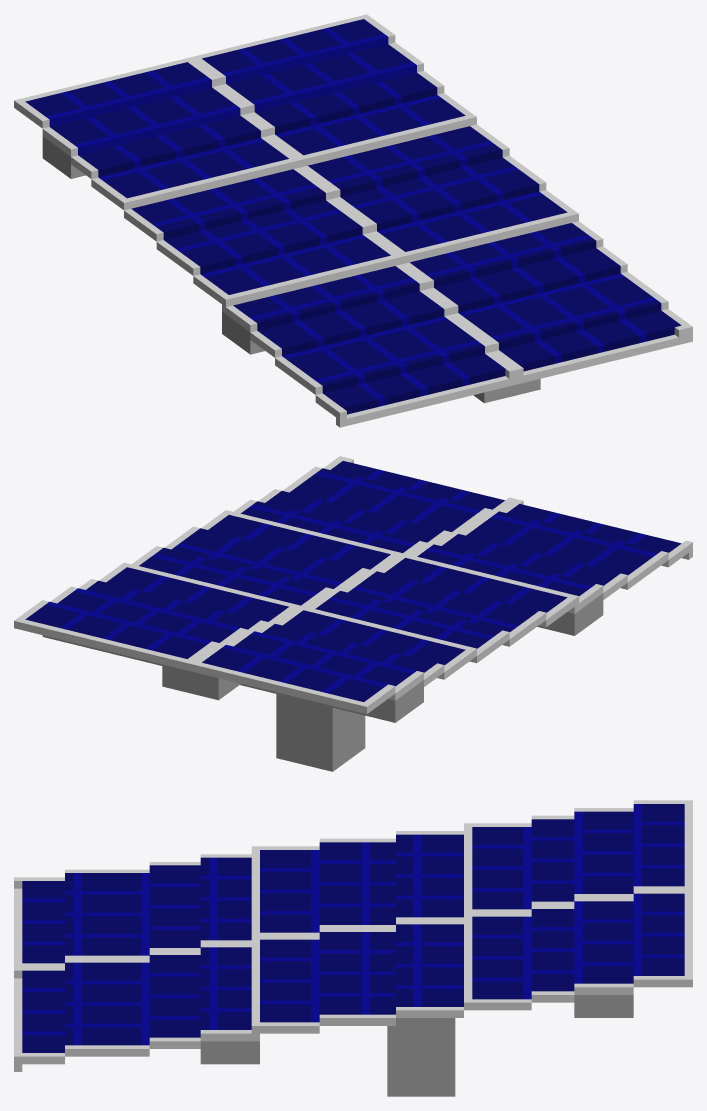
File: solar pannel grounded.obj
The picture shows the model from 3 angles, top to bottom: view 1: azimuth 30°, elevation 25°; view 2: azimuth 150°, elevation 25°; view 3: azimuth 270°, elevation 25°; orthographic projection. The views are drawn at different scales.
Parts seen in each view (by area): view 1: solar pannel grounded; view 2: solar pannel grounded; view 3: solar pannel grounded.
Part boxes in pixels (box(x1,y1,x2,y2)): solar pannel grounded: box(14, 14, 692, 427); solar pannel grounded: box(14, 456, 692, 771); solar pannel grounded: box(14, 800, 692, 1096).
Size of the model in its own units: 50 by 25 by 80.
Materials: 1 (1 with a texture image).
